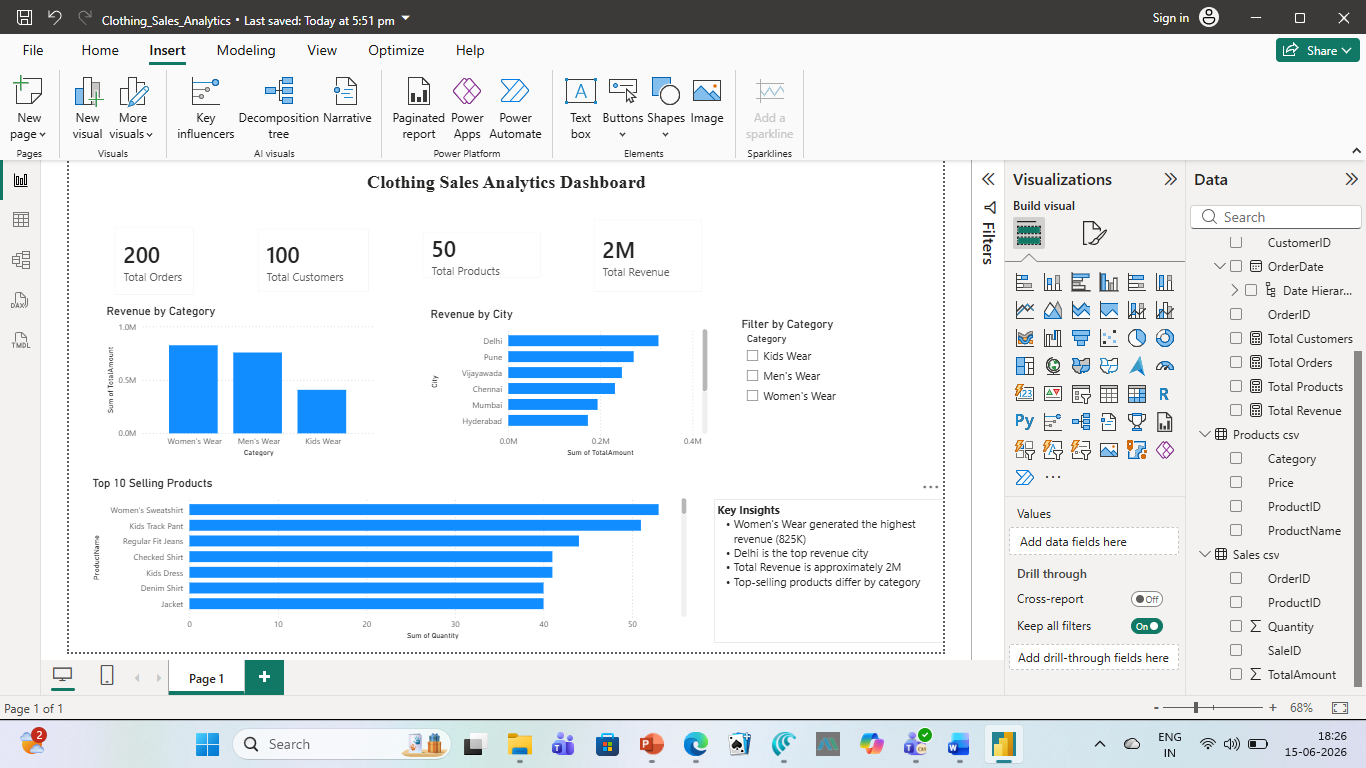

The page's visual inventory and layout, read from the dashboard file:
{"tool":"powerbi","page":{"name":"Page 1","canvas":[1280,720],"ordinal":0},"visuals":[{"type":"cardVisual","fields":{"Data":["Orders csv.Total Customers"]},"box":[181.5,11.7,197.6,127.3],"z":0},{"type":"cardVisual","fields":{"Data":["Orders csv.Total Orders"]},"box":[16.1,10.2,150.7,134.6],"z":1000},{"type":"cardVisual","fields":{"Data":["Orders csv.Total Products"]},"box":[379,24.9,207.8,102.4],"z":2000},{"type":"cardVisual","fields":{"Data":["Orders csv.Total Revenue"]},"box":[600,0,193.2,140.5],"z":3000},{"type":"clusteredColumnChart","title":"Revenue by Category","fields":{"Category":["Products csv.Category"],"Y":["Sum(Sales csv.TotalAmount)"]},"box":[16.1,139,456.6,256.1],"z":4000},{"type":"clusteredBarChart","title":"Revenue by City","fields":{"Category":["customers csv.City"],"Y":["Sum(Sales csv.TotalAmount)"]},"box":[513.7,134.6,466.8,260.5],"z":4001},{"type":"clusteredBarChart","title":"Top 10 Selling Products","fields":{"Category":["Products csv.ProductName"],"Y":["Sum(Sales csv.Quantity)"]},"box":[29.3,405.4,1109.3,295.6],"z":4002},{"type":"slicer","fields":{"Values":["Products csv.Category"]},"box":[1028.8,111.2,218,283.9],"z":4003}]}

Visuals, with their boxes on the page's 1280x720 design canvas (x1, y1, x2, y2). These are canvas units, not pixel positions in the 1366x768 screenshot, which may show the page scaled, cropped or inside an application window:
cardVisual - Orders csv.Total Customers: 182,12,379,139
cardVisual - Orders csv.Total Orders: 16,10,167,145
cardVisual - Orders csv.Total Products: 379,25,587,127
cardVisual - Orders csv.Total Revenue: 600,0,793,140
"Revenue by Category" clusteredColumnChart: 16,139,473,395
"Revenue by City" clusteredBarChart: 514,135,980,395
"Top 10 Selling Products" clusteredBarChart: 29,405,1139,701
slicer - Products csv.Category: 1029,111,1247,395
